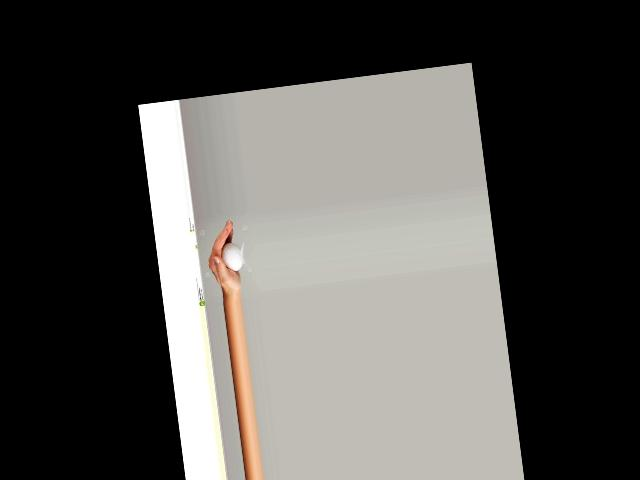egg: (220, 240, 243, 272)
